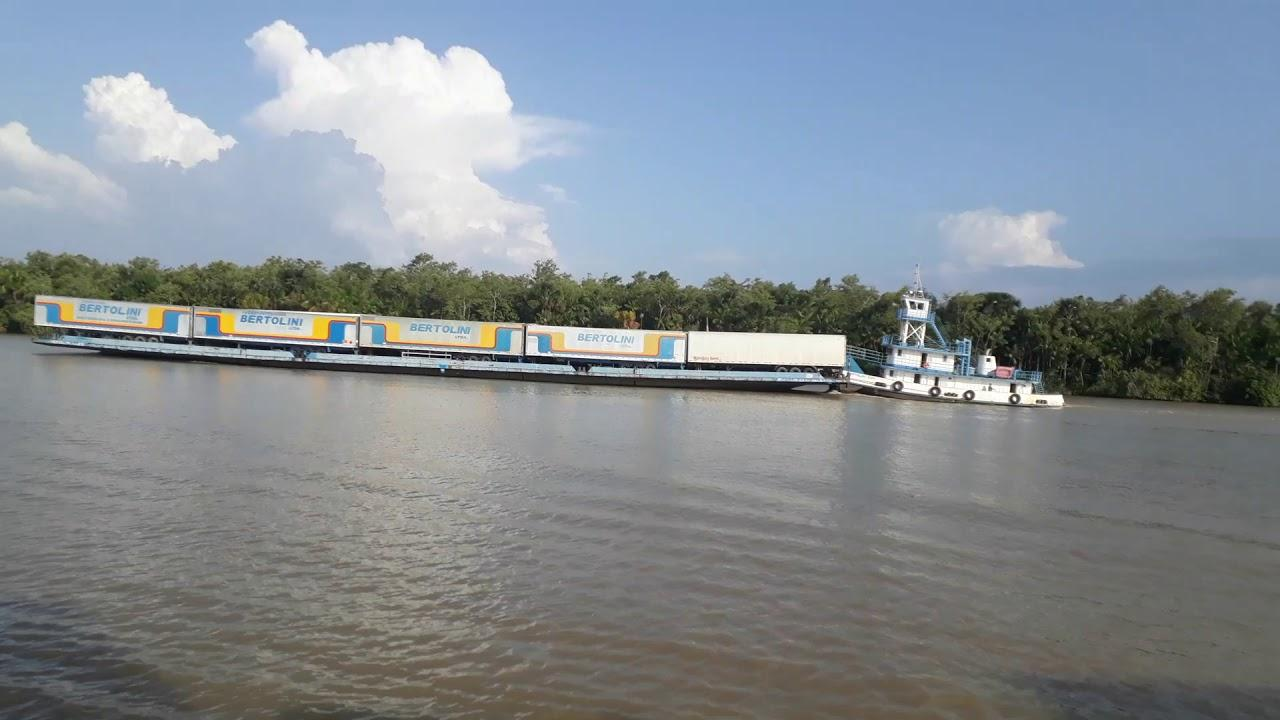Ship: (31, 281, 1070, 406)
